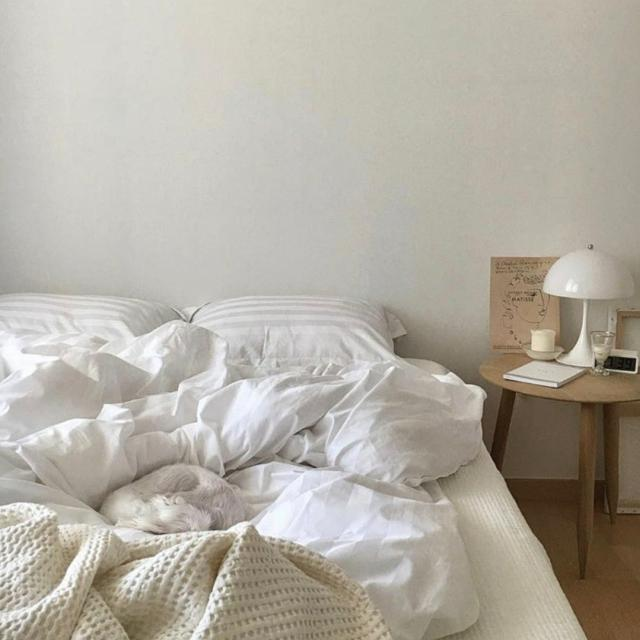bed: (0, 283, 592, 640)
